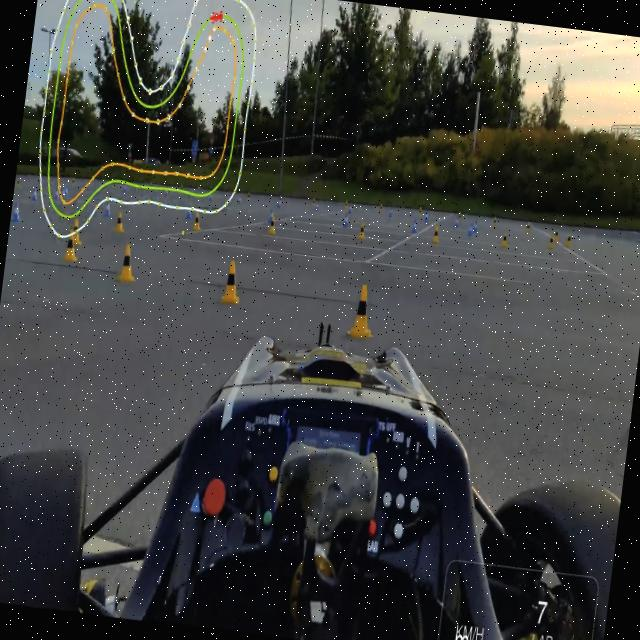blue_cone: (11, 200, 23, 224), (103, 197, 112, 216), (266, 207, 274, 224), (184, 203, 192, 219), (410, 217, 417, 235), (466, 222, 473, 238), (31, 188, 38, 202), (342, 212, 348, 226)
yellow_cone: (344, 279, 380, 342), (219, 255, 245, 308), (115, 240, 142, 286), (62, 233, 79, 264), (68, 217, 82, 247), (113, 210, 125, 234), (266, 214, 278, 237), (357, 218, 368, 240), (192, 210, 202, 232), (432, 222, 441, 244), (564, 231, 573, 250), (546, 232, 555, 251), (499, 230, 508, 249)
